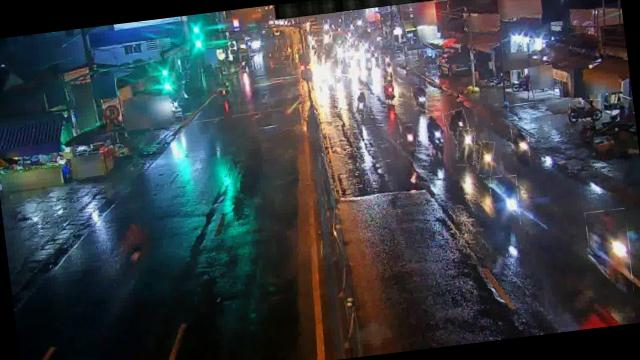Bike: (584, 208, 634, 295), (488, 174, 522, 227), (425, 113, 448, 156), (454, 126, 476, 166), (568, 97, 603, 121), (510, 122, 530, 162), (476, 140, 496, 177), (444, 109, 468, 134), (400, 124, 418, 154), (350, 89, 370, 114), (378, 82, 398, 106), (410, 86, 428, 109), (380, 66, 393, 82)
